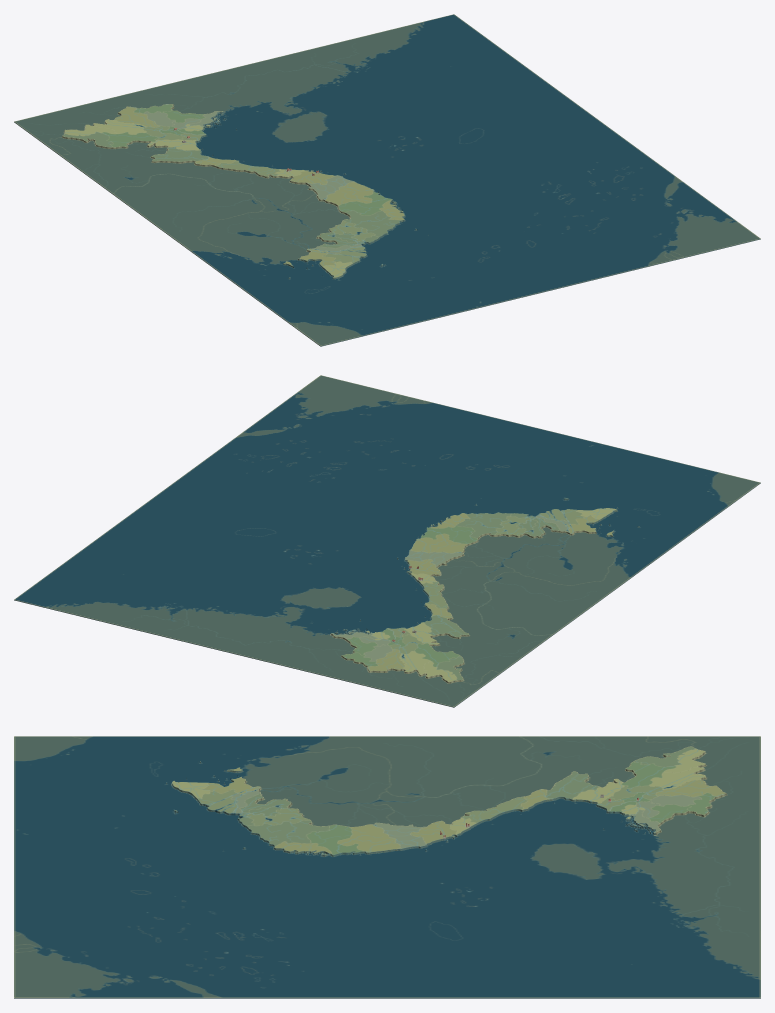
The model's file is viet-nam-world-map.glb.
3 renders of one model, top to bottom at view 1: azimuth 30°, elevation 25°; view 2: azimuth 150°, elevation 25°; view 3: azimuth 270°, elevation 25°, orthographic. The views are drawn at different scales.
Parts seen in each view (by area): view 1: atlas_sea_islands_reefs, map_base, admin_23_0, admin_28_0, admin_29_0, admin_14_0, admin_32_0; view 2: atlas_sea_islands_reefs, map_base, admin_23_0, admin_28_0, admin_14_0, admin_29_0, admin_24_0; view 3: atlas_sea_islands_reefs, admin_23_0, admin_28_0, admin_14_0, admin_29_0, admin_24_0, admin_25_0, map_base, admin_32_0, admin_10_0, admin_27_0, admin_07_0 (+9 smaller).
Part boxes in pixels (bbox=[...]): atlas_sea_islands_reefs: bbox=[14, 14, 760, 345]; map_base: bbox=[14, 122, 760, 346]; admin_23_0: bbox=[343, 210, 401, 238]; admin_28_0: bbox=[325, 182, 374, 207]; admin_29_0: bbox=[151, 146, 208, 163]; admin_14_0: bbox=[338, 192, 392, 215]; admin_32_0: bbox=[102, 132, 158, 148]; atlas_sea_islands_reefs: bbox=[14, 375, 760, 706]; map_base: bbox=[14, 483, 760, 707]; admin_23_0: bbox=[455, 512, 511, 539]; admin_28_0: bbox=[411, 533, 468, 553]; admin_14_0: bbox=[421, 526, 478, 544]; admin_29_0: bbox=[422, 615, 469, 638]; admin_24_0: bbox=[404, 549, 463, 567]; atlas_sea_islands_reefs: bbox=[14, 736, 760, 997]; admin_23_0: bbox=[246, 820, 329, 846]; admin_28_0: bbox=[337, 824, 400, 854]; admin_14_0: bbox=[306, 824, 362, 856]; admin_29_0: bbox=[545, 771, 598, 801]; admin_24_0: bbox=[373, 822, 427, 850]; admin_25_0: bbox=[460, 796, 527, 824]; map_base: bbox=[14, 998, 760, 998]; admin_32_0: bbox=[621, 761, 676, 787]; admin_10_0: bbox=[656, 779, 726, 798]; admin_27_0: bbox=[649, 767, 706, 789]; admin_07_0: bbox=[247, 808, 310, 825].
Size of the model in its own units: 575 by 5.46 by 694.
Materials: 1 (1 with a texture image).
